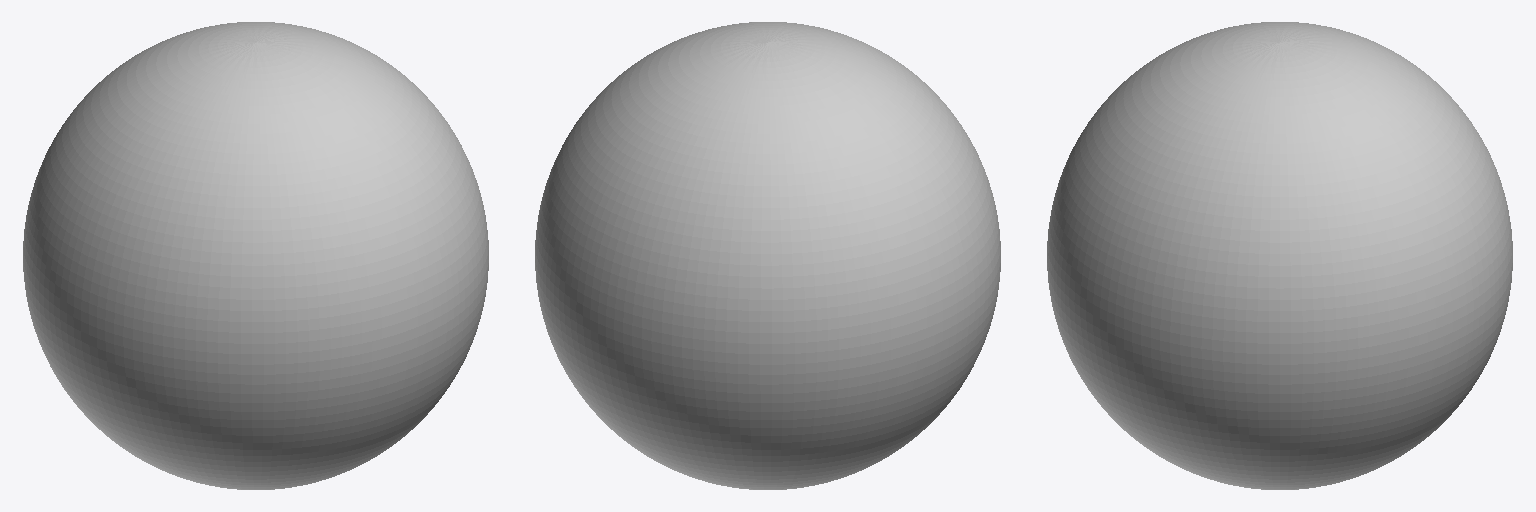
File: planetmars.obj
The picture shows the model from 3 angles: view 1: azimuth 30°, elevation 25°; view 2: azimuth 150°, elevation 25°; view 3: azimuth 270°, elevation 25°; orthographic projection.
Parts seen in each view (by area): view 1: Sphere.001; view 2: Sphere.001; view 3: Sphere.001.
Part boxes in pixels (x1,y1,x2,y2): Sphere.001: (23, 22, 488, 489); Sphere.001: (535, 22, 1000, 489); Sphere.001: (1047, 22, 1512, 489).
Size of the model in its own units: 1.97 by 2 by 1.97.